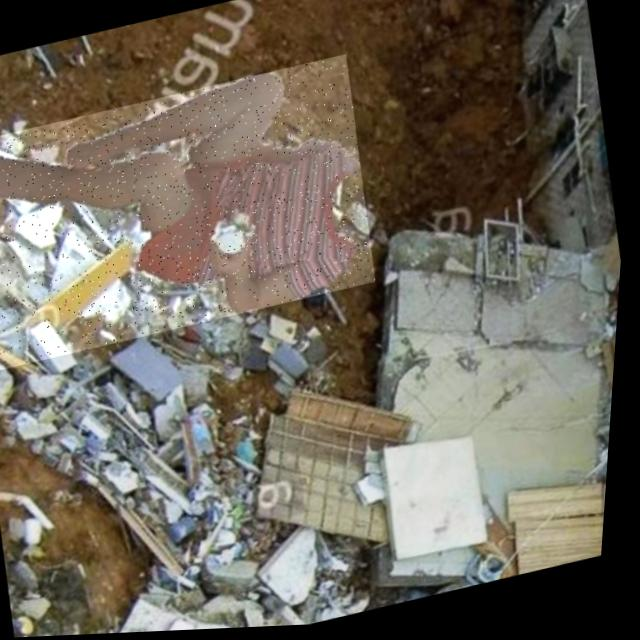Person in Rubble: (0, 55, 390, 371)
